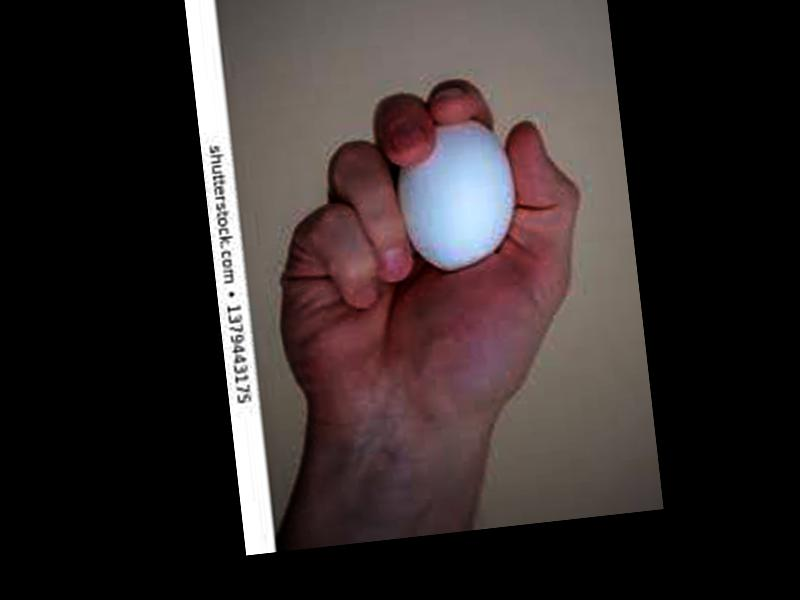Eggs: (391, 116, 522, 278)
